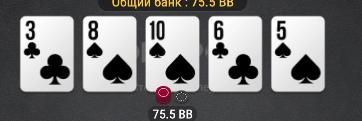10s: (146, 17, 198, 91)
3c: (22, 18, 72, 91)
5s: (272, 17, 324, 91)
6c: (208, 17, 262, 92)
8s: (84, 17, 136, 90)
